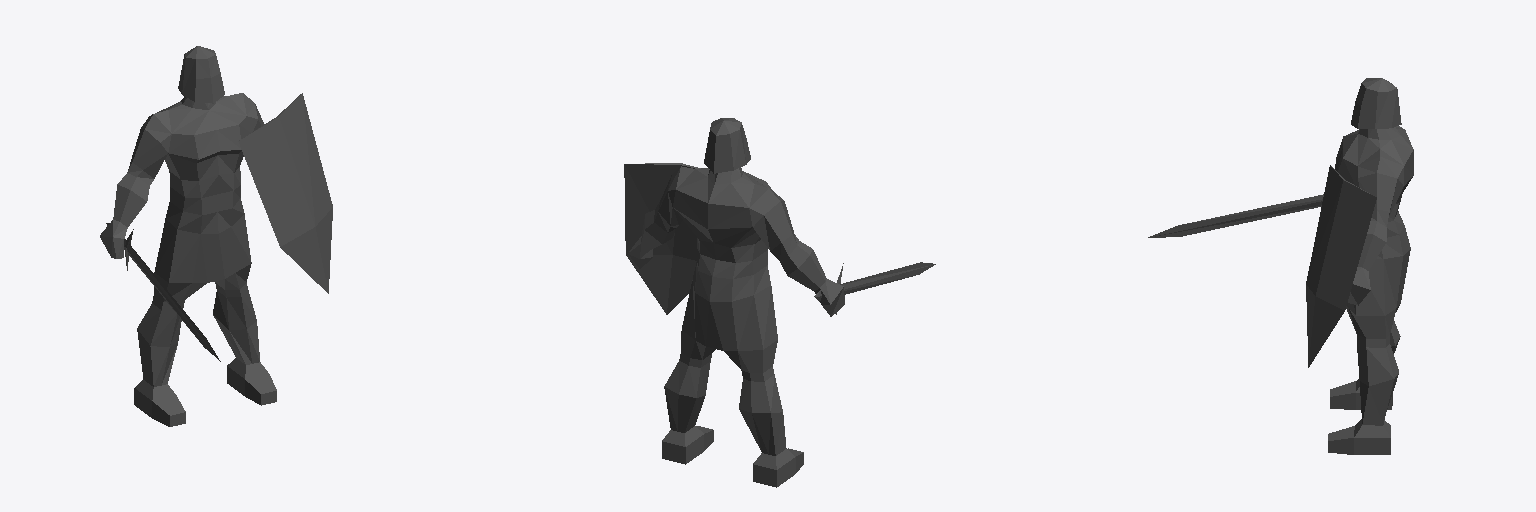
File: knight.obj
The picture shows the model from 3 angles: view 1: azimuth 30°, elevation 25°; view 2: azimuth 150°, elevation 25°; view 3: azimuth 270°, elevation 25°; orthographic projection.
Visible parts, largest first — view 1: Mesh.001_Mesh_armored_swordman, Mesh.002_Mesh.001_shield.001, Mesh_Mesh.002_sword.001; view 2: Mesh.001_Mesh_armored_swordman, Mesh.002_Mesh.001_shield.001, Mesh_Mesh.002_sword.001; view 3: Mesh.001_Mesh_armored_swordman, Mesh.002_Mesh.001_shield.001, Mesh_Mesh.002_sword.001.
Boxes of the visible parts, x1,y1,x2,y2 form: Mesh.001_Mesh_armored_swordman: [100, 46, 276, 426]; Mesh.002_Mesh.001_shield.001: [238, 93, 332, 293]; Mesh_Mesh.002_sword.001: [106, 223, 220, 361]; Mesh.001_Mesh_armored_swordman: [628, 118, 844, 487]; Mesh.002_Mesh.001_shield.001: [624, 163, 700, 314]; Mesh_Mesh.002_sword.001: [814, 262, 935, 314]; Mesh.001_Mesh_armored_swordman: [1328, 78, 1413, 454]; Mesh.002_Mesh.001_shield.001: [1306, 165, 1376, 367]; Mesh_Mesh.002_sword.001: [1148, 194, 1323, 237].
Size of the model in its own units: 2.79 by 4.24 by 2.94.